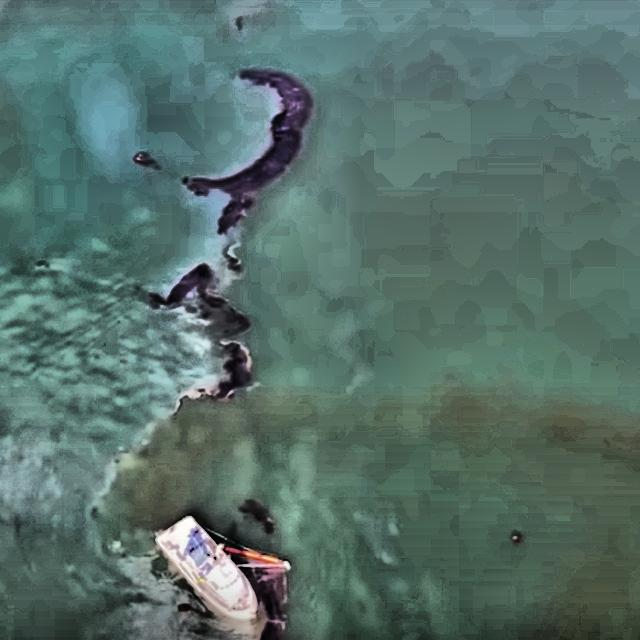truecolor: (182, 69, 312, 234), (148, 263, 252, 402), (206, 529, 289, 640), (240, 501, 275, 534), (132, 152, 159, 170)
